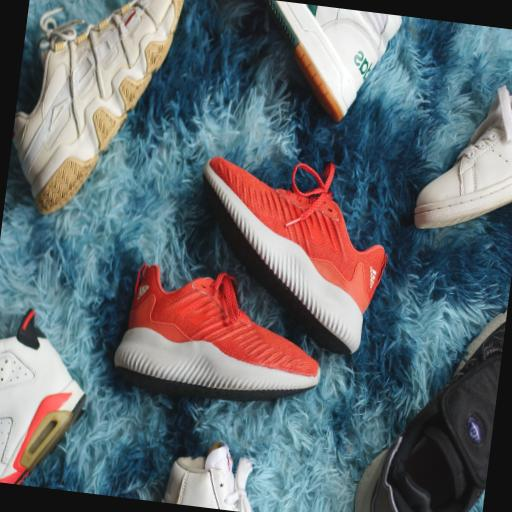shoe: (12, 0, 182, 214), (203, 157, 385, 354), (354, 311, 506, 511), (114, 265, 319, 401), (265, 0, 400, 121), (0, 311, 84, 484), (414, 87, 511, 228), (161, 442, 251, 511)
